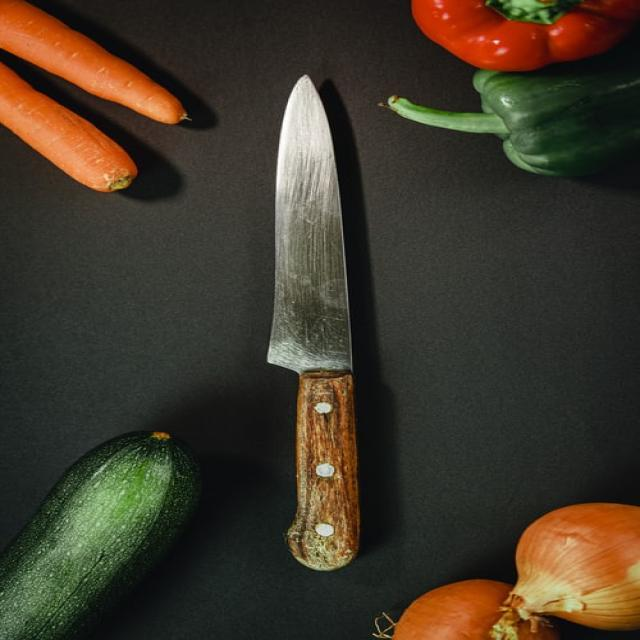faca: (250, 57, 384, 583)
